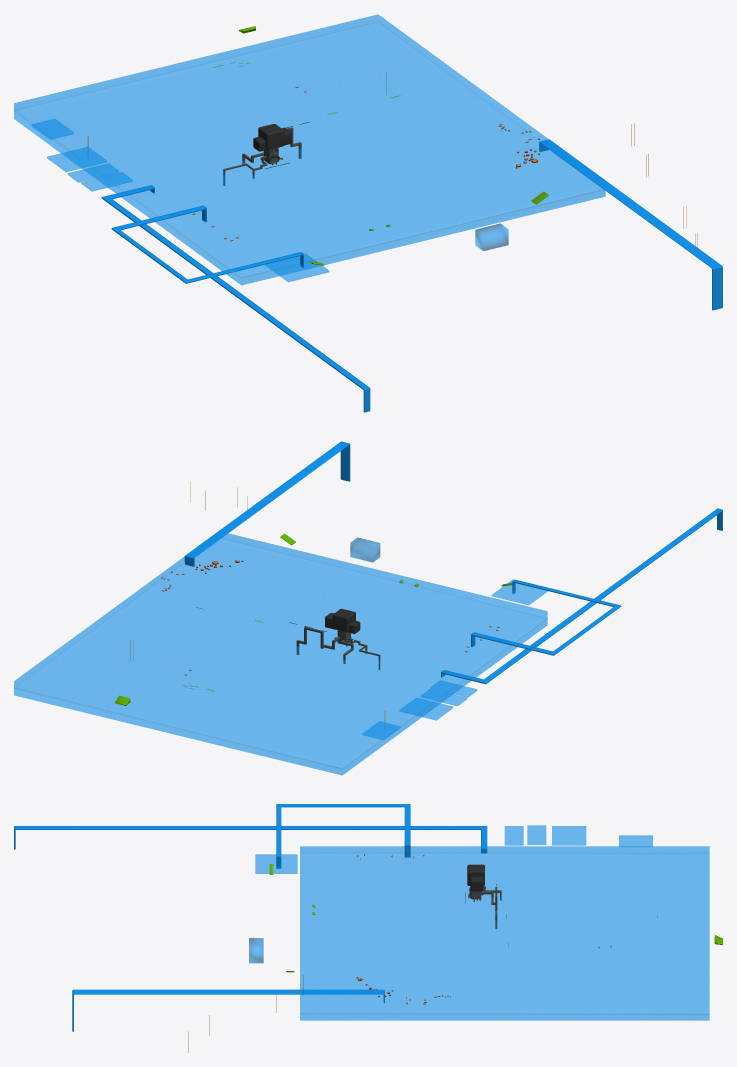
File: Level3.fbx
The picture shows the model from 3 angles, top to bottom: view 1: azimuth 30°, elevation 25°; view 2: azimuth 150°, elevation 25°; view 3: azimuth 270°, elevation 25°; orthographic projection. The views are drawn at different scales.
Parts seen in each view (by area): view 1: WaterStill33, WaterRiver28, WaterRiver27, WaterRiver30, WoodleFather46, WaterStill34, WaterStill38, WaterStill35; view 2: WaterStill33, WaterRiver28, WaterRiver27, WoodleFather46, WaterRiver30, WaterStill34, WaterStill38, WaterStill35; view 3: WaterStill33, WaterRiver27, WaterRiver28, WaterRiver30, WoodleFather46, WaterStill34, WaterStill38, WaterStill39.
Part boxes in pixels (bbox=[...]): WaterStill33: bbox=[14, 14, 605, 285]; WaterRiver28: bbox=[539, 139, 722, 310]; WaterRiver27: bbox=[101, 185, 370, 412]; WaterRiver30: bbox=[111, 205, 303, 283]; WoodleFather46: bbox=[223, 124, 301, 185]; WaterStill34: bbox=[265, 253, 329, 282]; WaterStill38: bbox=[47, 147, 106, 171]; WaterStill35: bbox=[475, 223, 508, 250]; WaterStill33: bbox=[14, 533, 547, 775]; WaterRiver28: bbox=[184, 441, 350, 566]; WaterRiver27: bbox=[441, 508, 722, 684]; WoodleFather46: bbox=[296, 608, 380, 669]; WaterRiver30: bbox=[471, 579, 621, 655]; WaterStill34: bbox=[491, 579, 547, 605]; WaterStill38: bbox=[399, 697, 453, 720]; WaterStill35: bbox=[350, 537, 380, 562]; WaterStill33: bbox=[300, 846, 709, 1020]; WaterRiver27: bbox=[14, 826, 487, 853]; WaterRiver28: bbox=[72, 989, 384, 1031]; WaterRiver30: bbox=[276, 804, 410, 868]; WoodleFather46: bbox=[467, 864, 501, 928]; WaterStill34: bbox=[255, 854, 297, 873]; WaterStill38: bbox=[552, 826, 586, 845]; WaterStill39: bbox=[619, 835, 652, 847].
Size of what is drawn, in the model's own units: 384 by 67.44 by 565.
